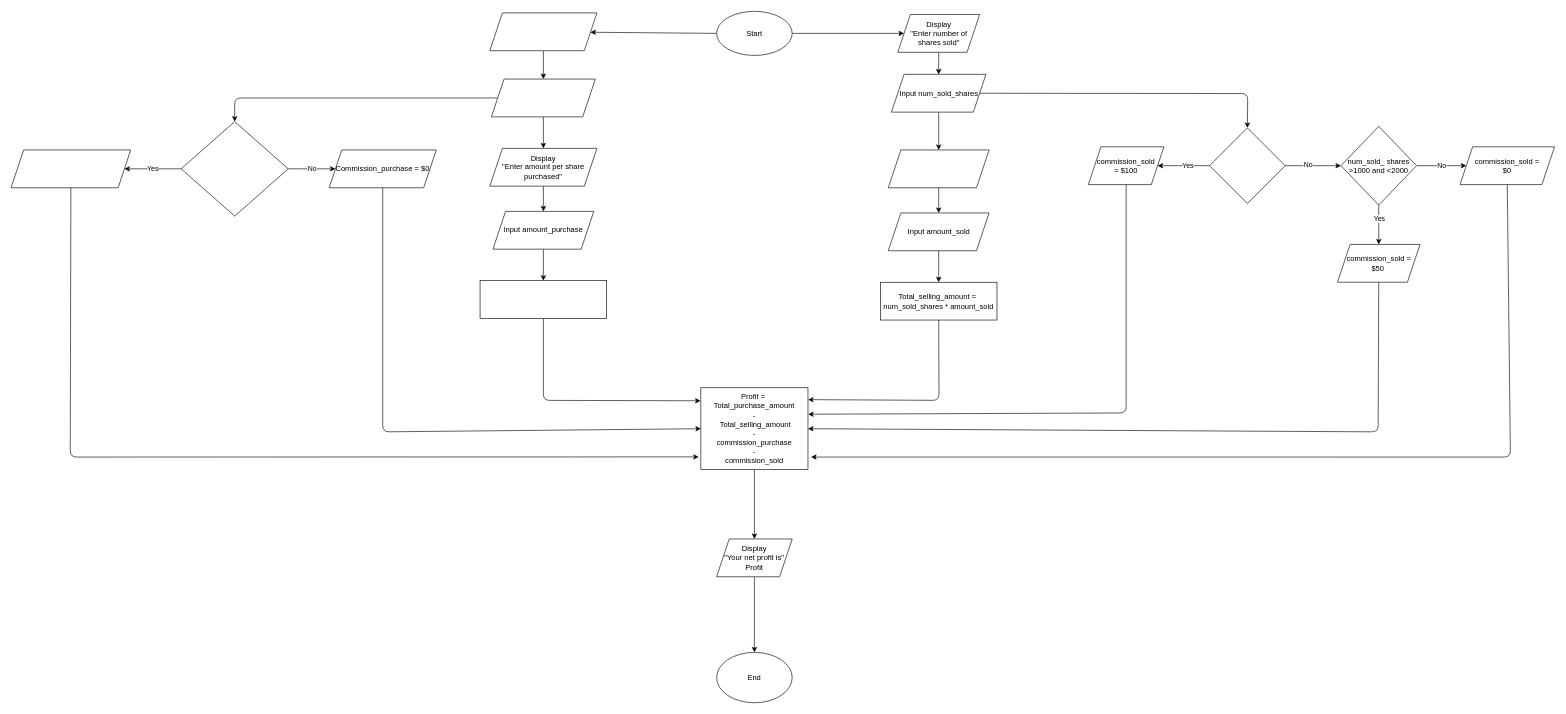
Image size: 1566x714. Some labels were removed from this diagram. Here are the shapes that lost their labels. From the top down, the box of each, then its label:
(489, 12, 597, 51): Display "Enter number of shares Purchased"
(491, 78, 595, 117): Input num_purchased_shares
(10, 149, 131, 188): Commission_purchase = $100
(180, 121, 288, 216): num_purchased_shares <1000
(888, 149, 989, 188): Display "Enter amount per share sold"
(1209, 127, 1285, 203): num_sold_shares <1000
(479, 280, 607, 318): Total_purchase_amount = num_purchased_shares * amount_purchase
